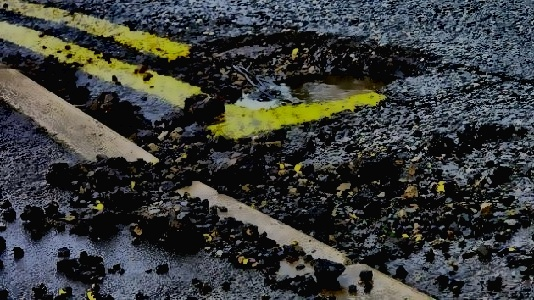pothole: (152, 27, 443, 102)
